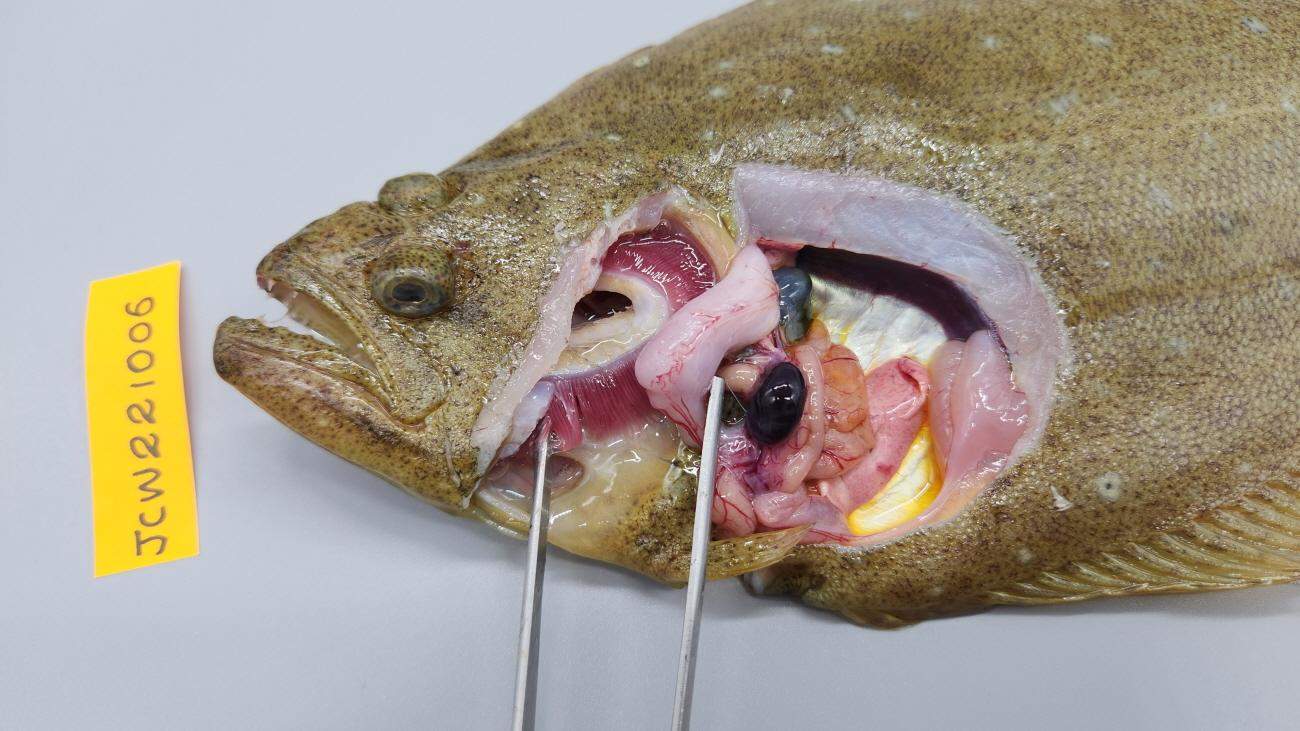POINN: (751, 318, 875, 529)
POSPN: (745, 360, 808, 445)
